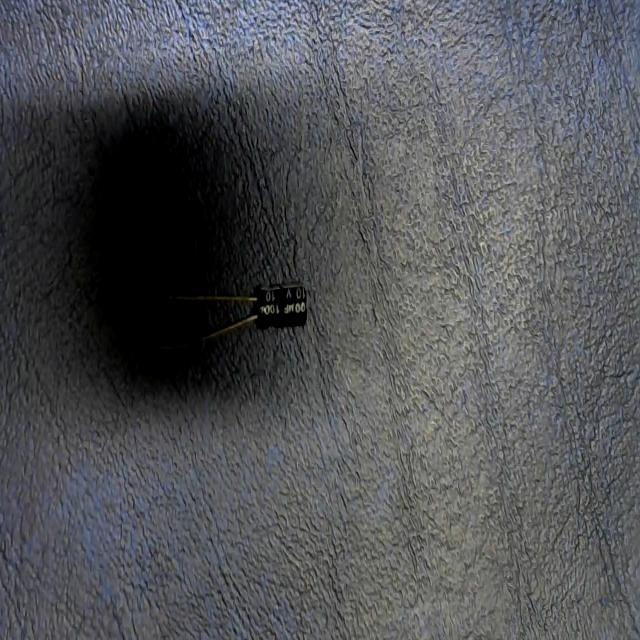capacitor: (202, 285, 309, 340)
